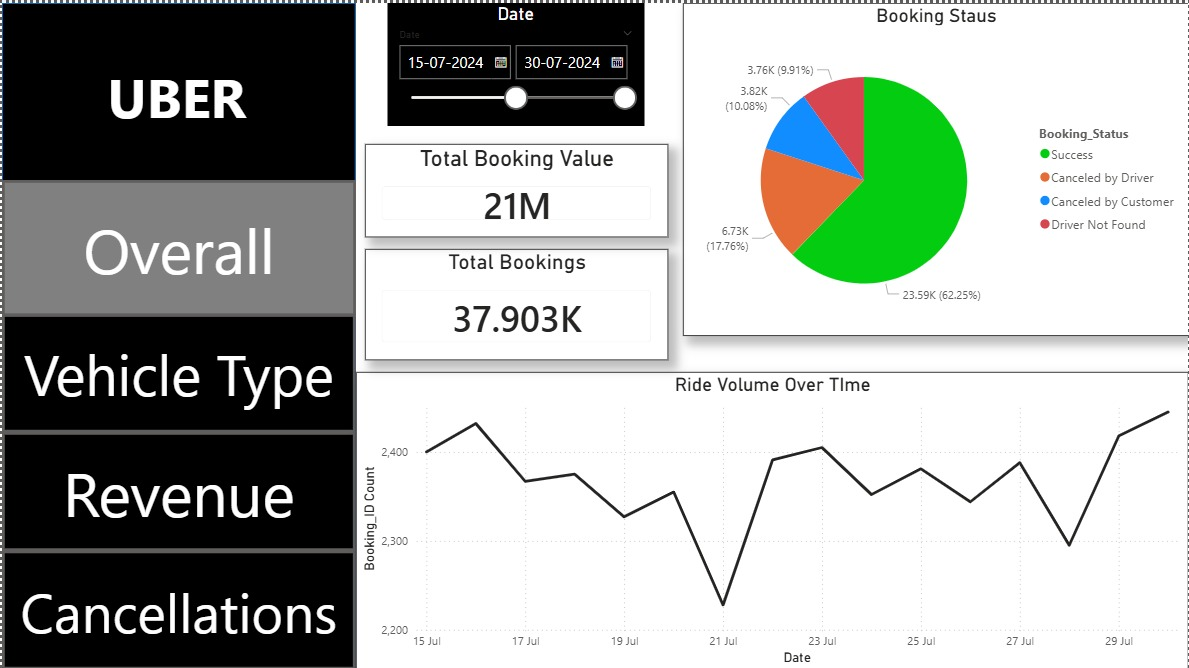

The dashboard page shown, as its layout file describes it:
{"tool":"powerbi","page":{"name":"Overall","canvas":[1280,720],"ordinal":0},"visuals":[{"type":"shape","box":[0,0,381.7,720],"z":0},{"type":"actionButton","box":[0,191.1,382.1,147.3],"z":1000},{"type":"actionButton","box":[0,334.5,381.7,128.5],"z":2000},{"type":"actionButton","box":[0,463,381.7,128.5],"z":3000},{"type":"actionButton","box":[0,591.5,381.7,128.5],"z":4000},{"type":"textbox","box":[35.9,54.8,306.1,117.2],"z":5000},{"type":"lineChart","title":"Ride Volume Over TIme","fields":{"Y":["CountNonNull(Bookings.Booking_ID)"],"Category":["Bookings.Date"]},"box":[382.1,398.3,898.7,322.2],"z":6000},{"type":"pieChart","title":"Booking Staus","fields":{"Category":["Bookings.Booking_Status"],"Y":["CountNonNull(Bookings.Booking_Status)"]},"box":[735.1,0,545.7,359.5],"z":7000},{"type":"cardVisual","title":"Total Bookings","fields":{"Data":["CountNonNull(Bookings.Booking_ID)"]},"box":[391.9,265.6,327.1,119.8],"z":8000},{"type":"cardVisual","title":"Total Booking Value","fields":{"Data":["Sum(Bookings.Booking_Value)"]},"box":[391.9,152.2,327.1,100.4],"z":9000},{"type":"slicer","title":"Date","fields":{"Values":["Bookings.Date"]},"box":[416.1,0,276.9,132.8],"z":10000}]}

Visuals, with their boxes in screenshot pixels (x1, y1, x2, y2), scaled from the page's 1280x720 canvas onto the 1189x668 screenshot:
shape: <region>0, 0, 355, 667</region>
actionButton: <region>0, 177, 355, 314</region>
actionButton: <region>0, 310, 355, 430</region>
actionButton: <region>0, 430, 355, 549</region>
actionButton: <region>0, 549, 355, 667</region>
textbox: <region>33, 51, 318, 160</region>
"Ride Volume Over TIme" lineChart: <region>355, 370, 1188, 667</region>
"Booking Staus" pieChart: <region>683, 0, 1188, 334</region>
"Total Bookings" cardVisual: <region>364, 246, 668, 358</region>
"Total Booking Value" cardVisual: <region>364, 141, 668, 234</region>
"Date" slicer: <region>387, 0, 644, 123</region>
